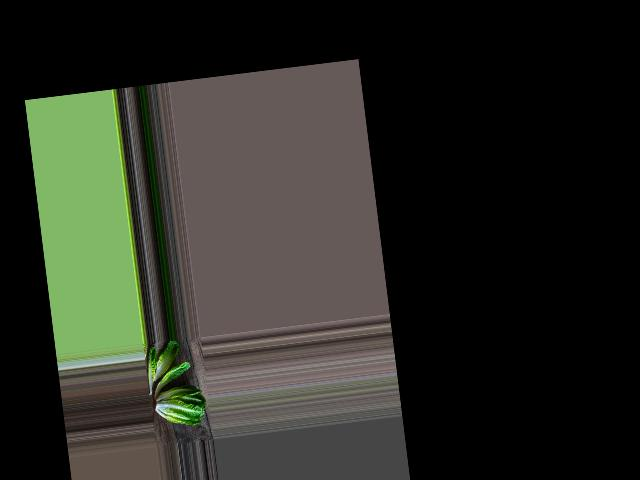lettuce: (153, 381, 207, 431)
